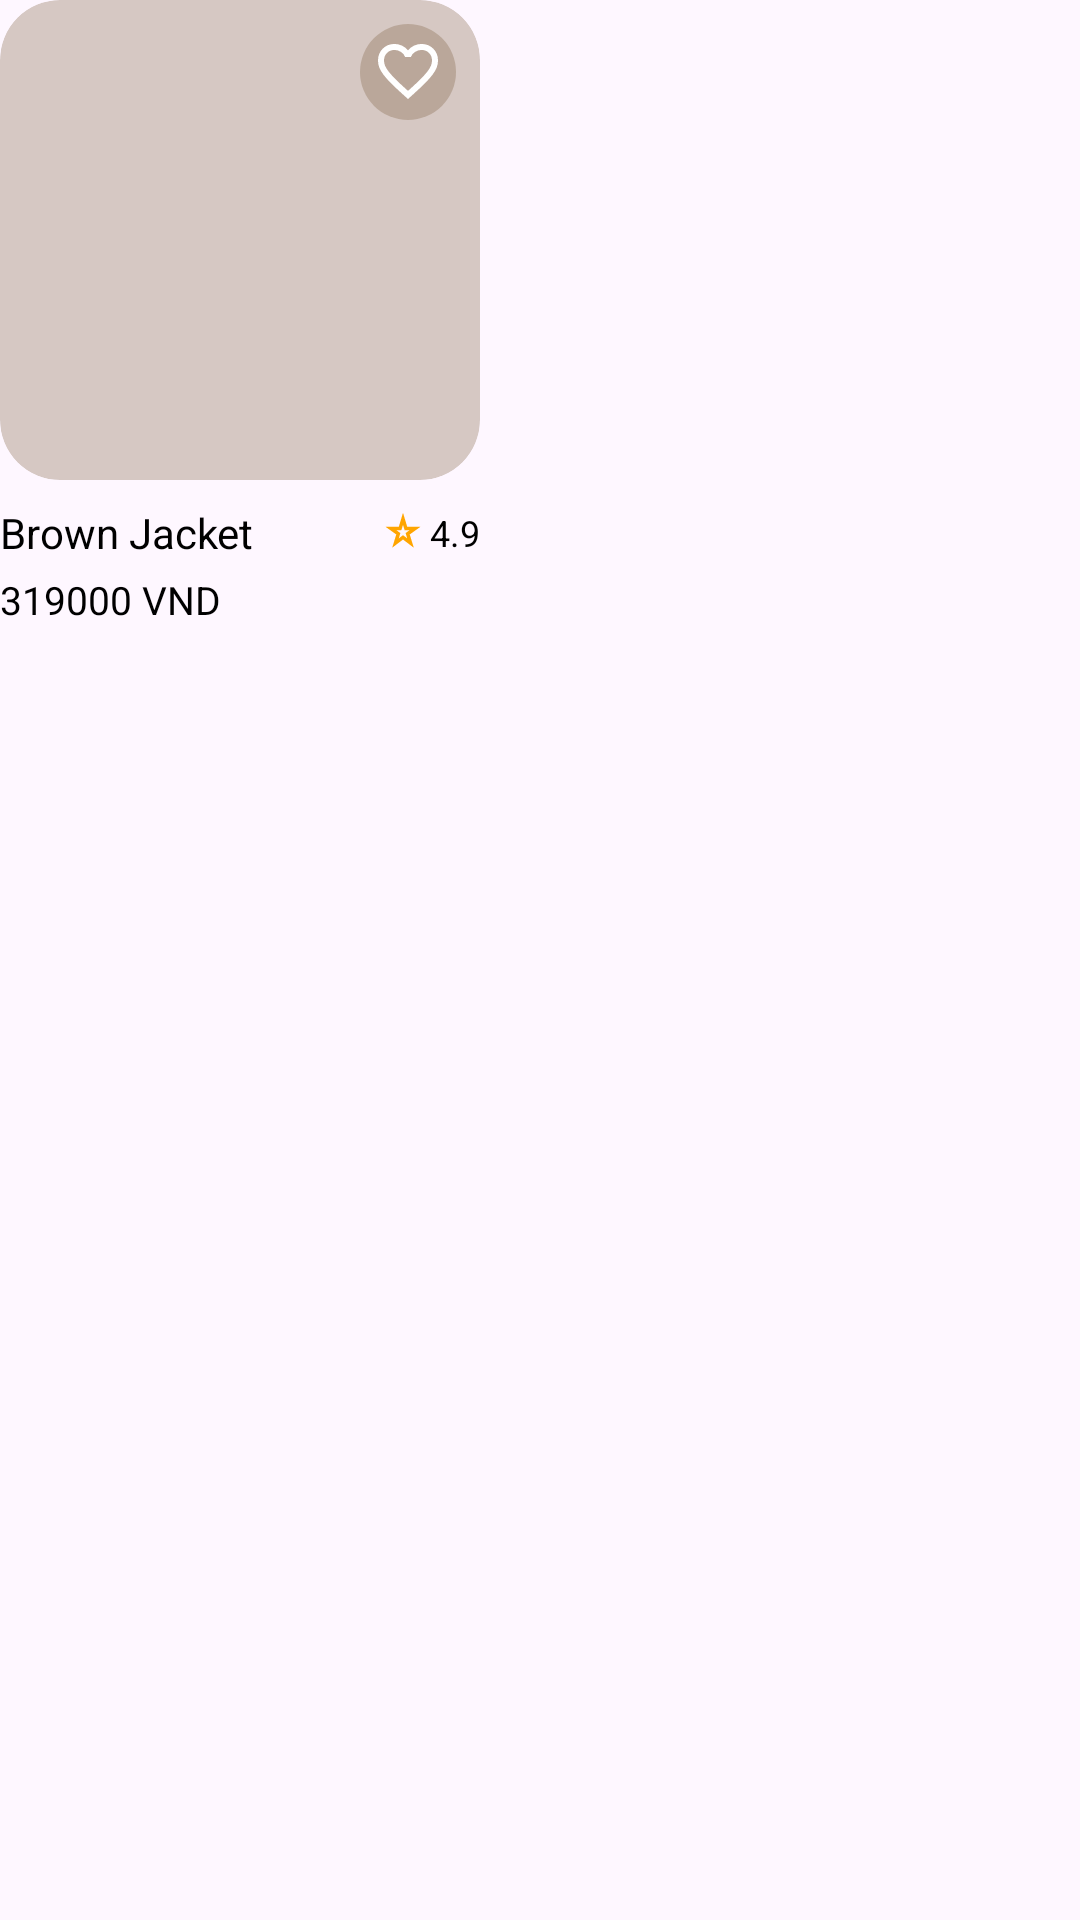

Named icons in this screenshot (1080px x 1920px) and their bounding boxes, [x1, y1, x2, y2]:
heart: [360, 24, 456, 120]
star: [386, 513, 420, 548]
